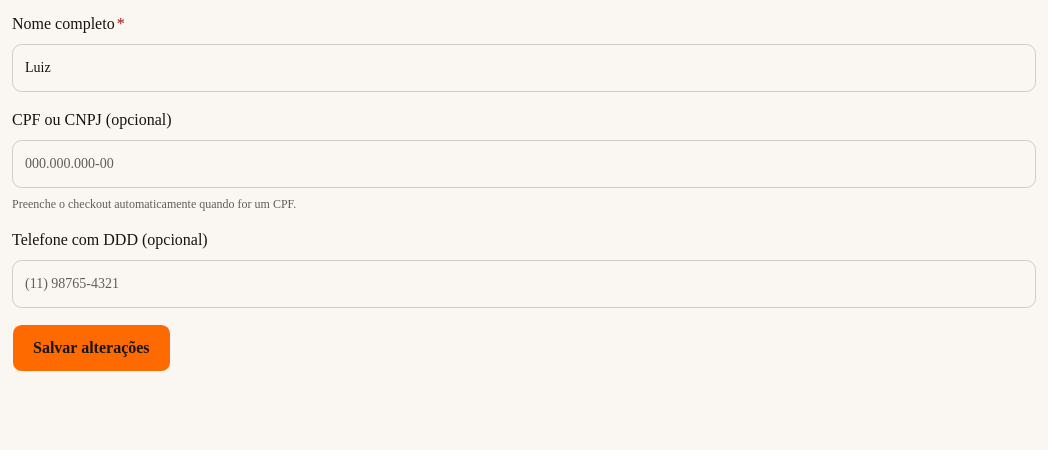
Scenario: leaves the name alone when only the contact changed
Type "52998224725" into the field labelled "CPF ou CNPJ (opcional)" at (524, 164), box [12,140,1036,188]
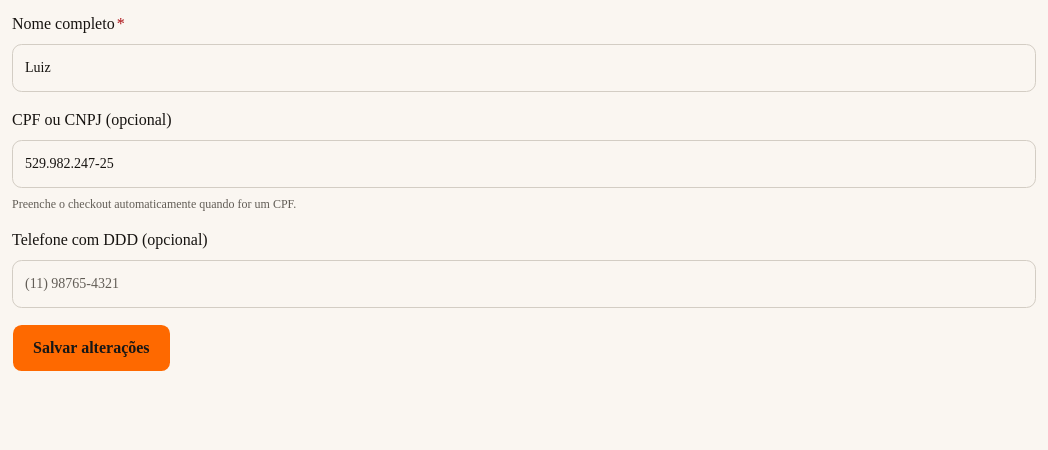
Click the button "Salvar alterações" at (91, 348), box [12,324,171,372]
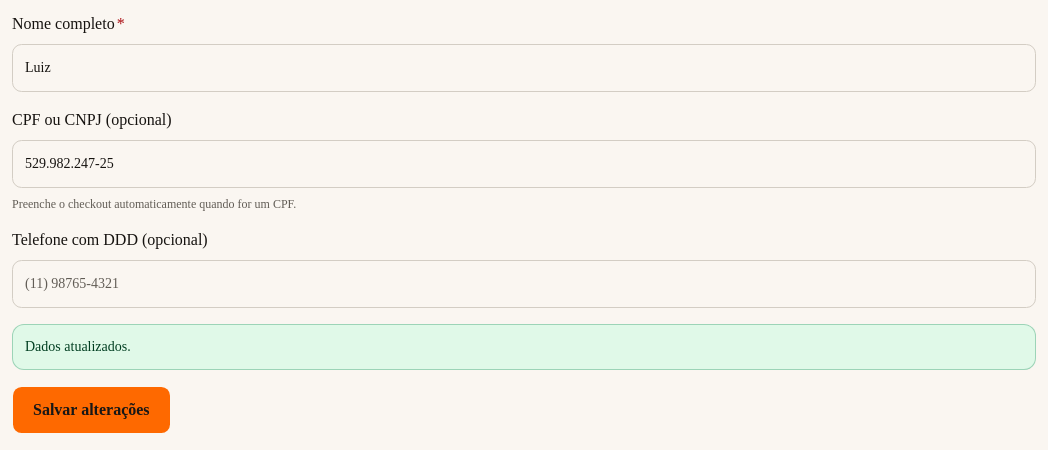
expect the message reads "Dados atualizados.": met, box [25,339,131,354]
